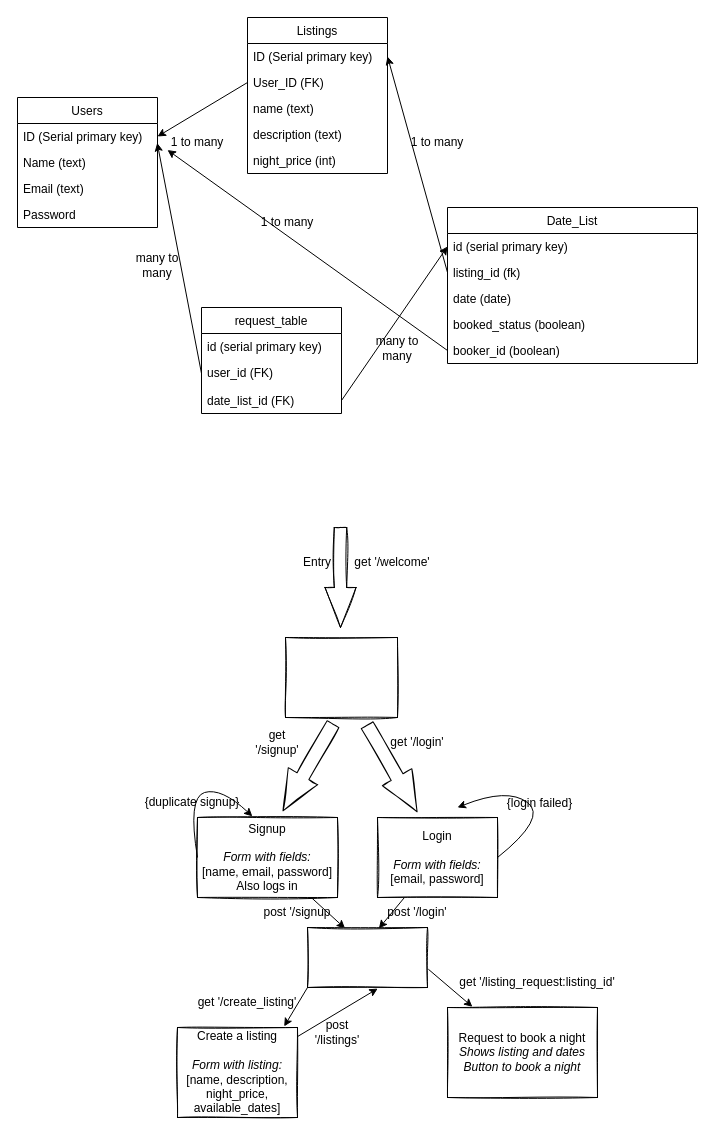
The diagram is 715 pixels wide and 1135 high, and some of its shapes have lost their labels. The centre of each missing label's shape, as x and y in pixels:
Basic Menu Page link to Lister link to Booker: pixel 367 957
Signup/Login Link to signup Link to login: pixel 341 677
